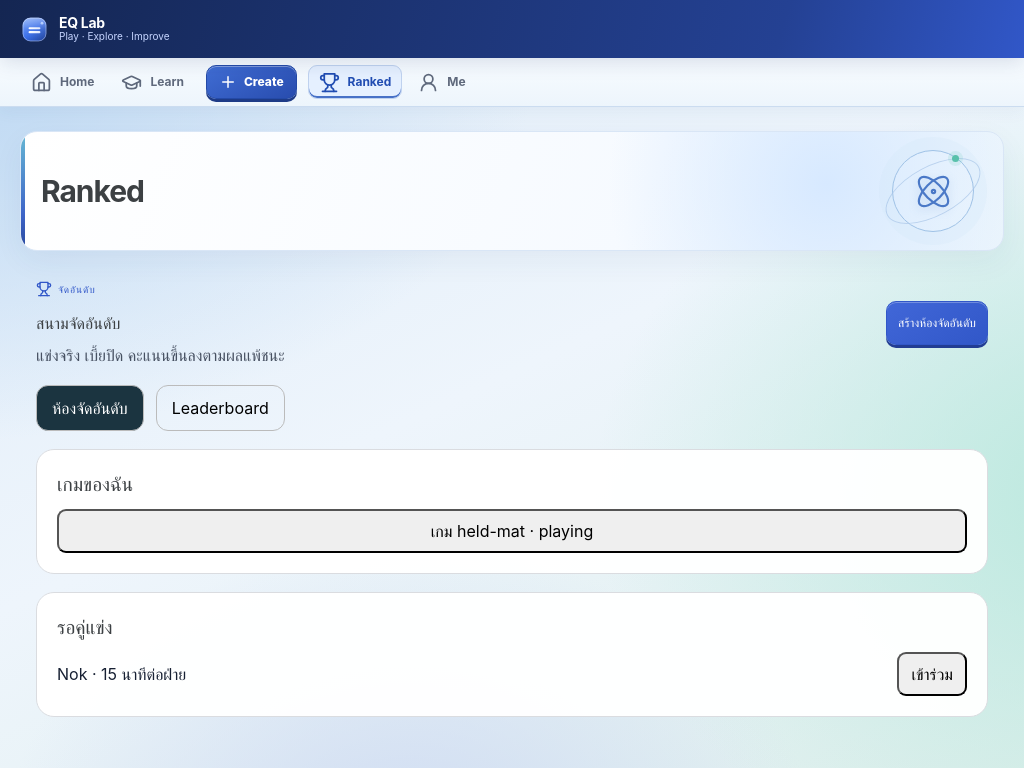
Test: joining a waiting Ranked room › asks the server for the stakes, and shows them before anything is joined
Step 1. Click the button "เข้าร่วม" → (932, 674), box [897,652,967,696]
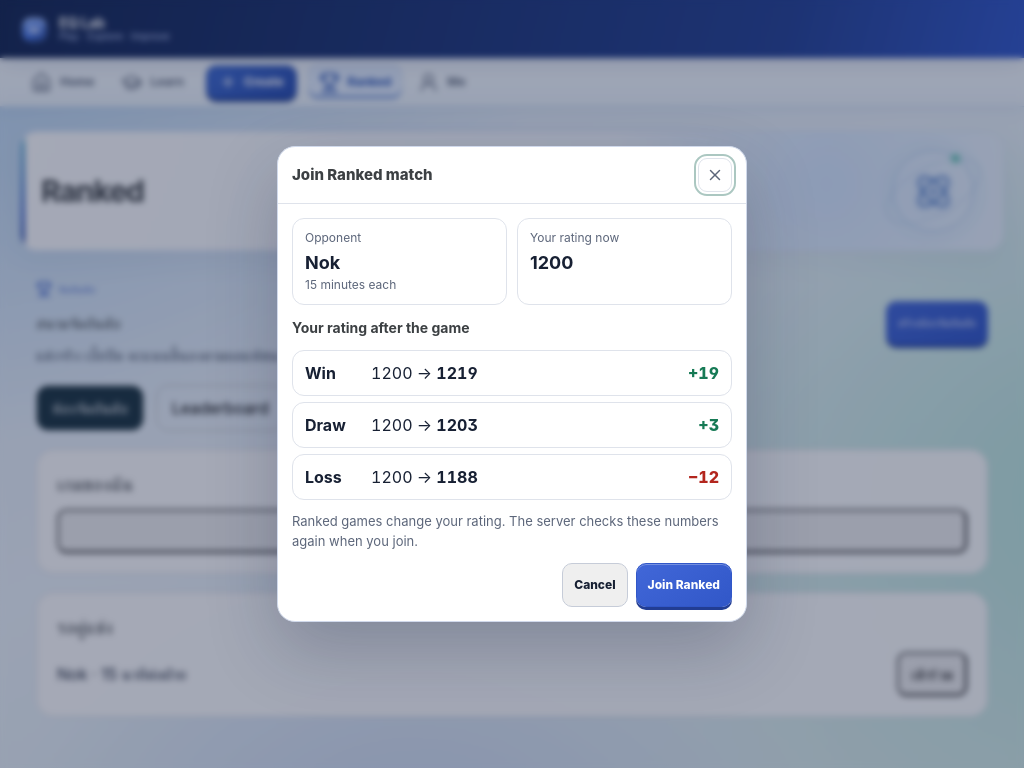
Result: the text "Nok" is shown at [305,252,340,273]
Result: the text "15 minutes each" is shown at [305,277,396,292]
Result: the element showing "1200" is shown at [530,252,573,273]
